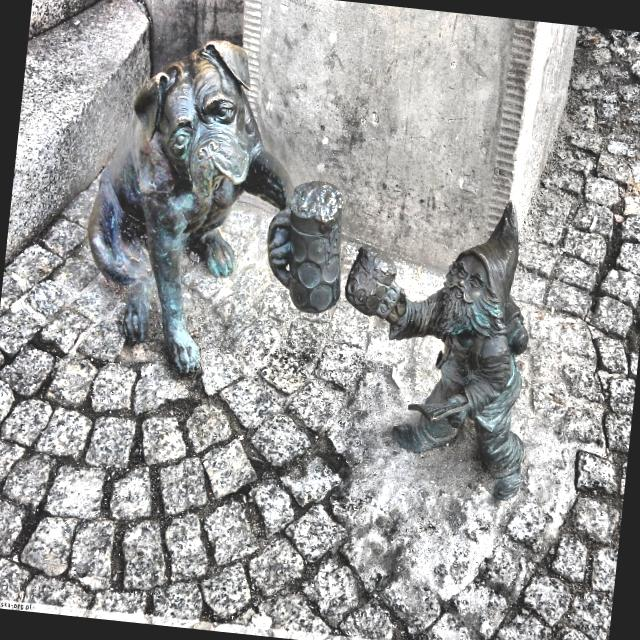Piwozlopek_ i_Piesel_Piwosz: (88, 40, 342, 371), (345, 202, 528, 500)
